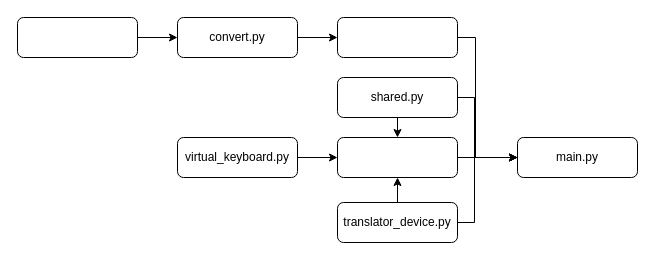
The diagram is 655 pixels wide and 260 high, and some of its shapes have lost their labels. Here are the shapes that lost their labels. From the top down, the centre of each, then its label:
At point 77,37: "PLT.ipynb".
At point 397,37: "model.tflite".
At point 397,157: "TabularUI.py".
